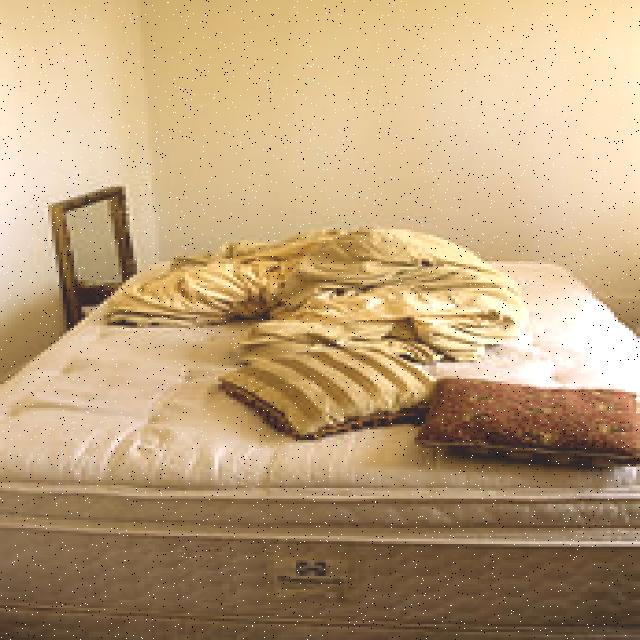bed: (18, 219, 640, 589)
